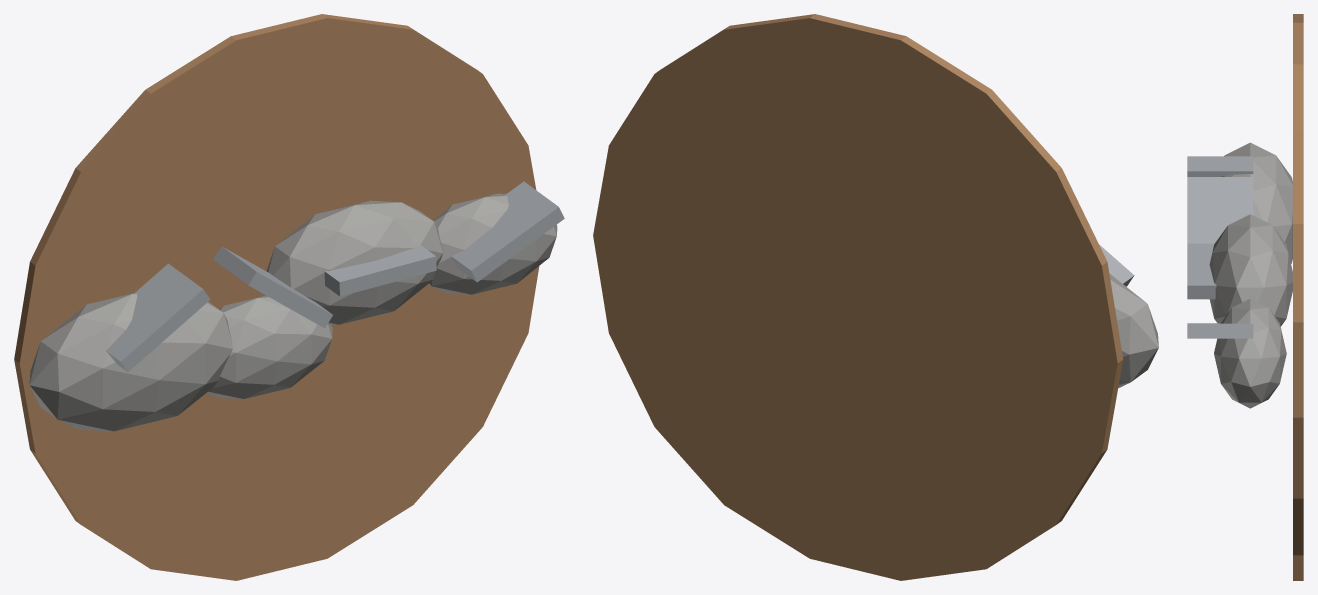
The model's file is 02_local_prop_cluster.glb.
3 renders of one model, left to right at view 1: azimuth 30°, elevation 25°; view 2: azimuth 150°, elevation 25°; view 3: azimuth 270°, elevation 25°, orthographic. The views are drawn at different scales.
Visible parts, largest first — view 1: scatter_base, scrap_rock_0, scrap_rock_2, scrap_rock_1, scrap_rock_3, scrap_plate_0, scrap_plate_3, scrap_plate_2, scrap_plate_1; view 2: scatter_base, scrap_rock_0; view 3: scrap_rock_2, scatter_base, scrap_rock_3, scrap_plate_1, scrap_rock_0, scrap_plate_2, scrap_plate_0, scrap_plate_3.
Part boxes in pixels (x1,y1,x2,y2): scatter_base: (14,14,539,580); scrap_rock_0: (29,292,232,431); scrap_rock_2: (266,200,443,324); scrap_rock_1: (207,295,332,398); scrap_rock_3: (429,193,557,294); scrap_plate_0: (106,263,210,371); scrap_plate_3: (451,181,564,282); scrap_plate_2: (324,245,436,296); scrap_plate_1: (213,246,332,328); scatter_base: (593,14,1123,580); scrap_rock_0: (1109,273,1158,387); scrap_rock_2: (1209,214,1292,326); scatter_base: (1293,14,1303,580); scrap_rock_3: (1214,298,1286,408); scrap_plate_1: (1187,177,1253,243); scrap_rock_0: (1220,142,1292,263); scrap_plate_2: (1187,243,1216,299); scrap_plate_0: (1187,156,1253,176); scrap_plate_3: (1187,323,1253,338).
Bounding box in the file's own units: 1.95 × 1.87 × 0.3875.
